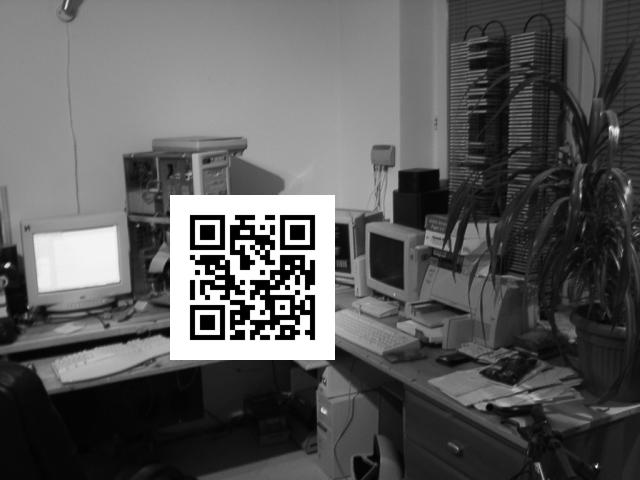qr_code: (170, 194, 335, 358)
